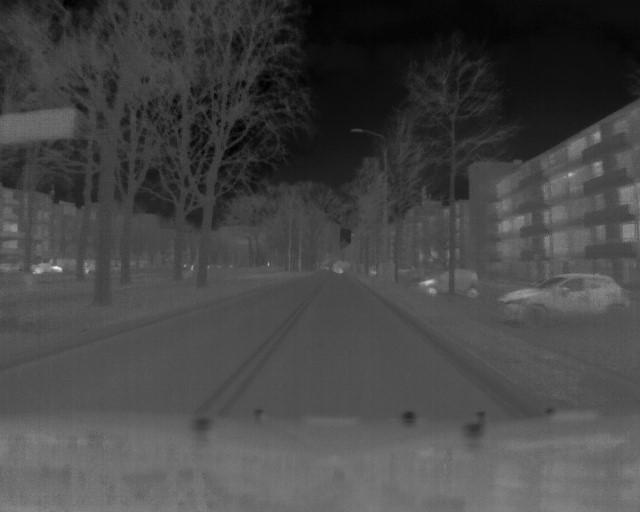car: (495, 262, 636, 331), (416, 265, 481, 300)
